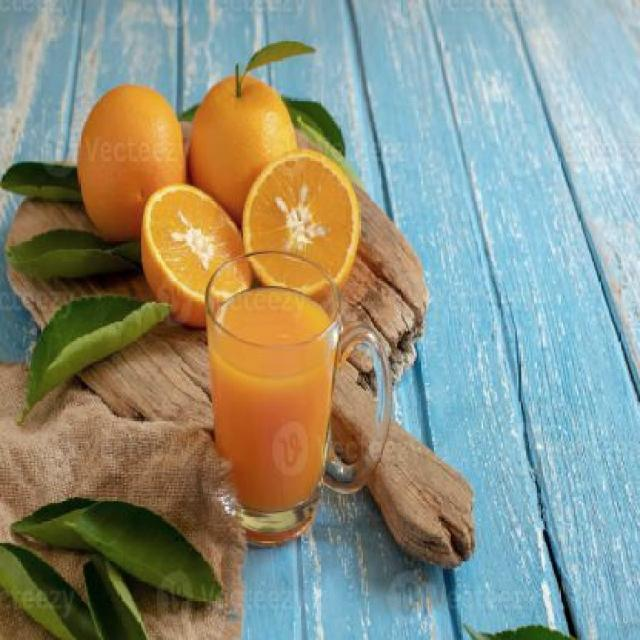Jeruk Sudah Matang: (190, 60, 298, 234), (74, 88, 188, 245)
